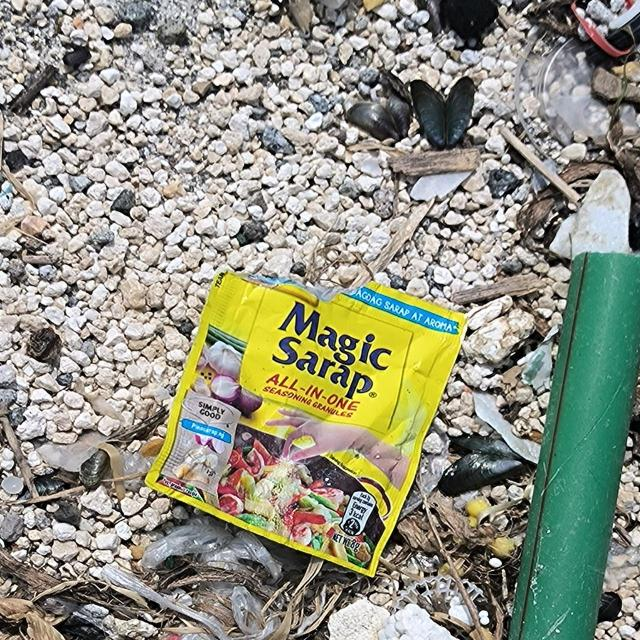plastic_waste: (143, 268, 472, 581)
